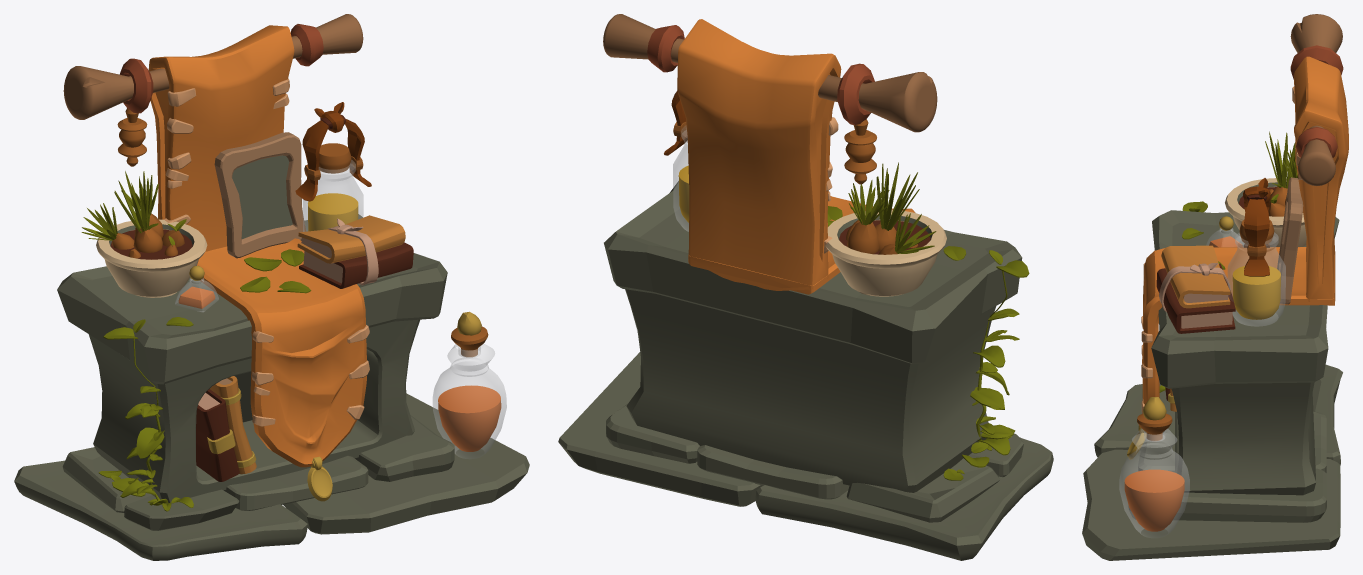
The model's file is xyz_homework_herbalists_table.glb.
3 renders of one model, left to right at view 1: azimuth 30°, elevation 25°; view 2: azimuth 150°, elevation 25°; view 3: azimuth 270°, elevation 25°, orthographic. The views are drawn at different scales.
Parts seen in each view (by area): view 1: Cube.009, Cube, Cube.008, Cube.001, Cube.006, Cube.007, Cube.010, Cylinder.002, Cylinder, Cylinder.001, Cube.003, Cube.002 (+21 smaller); view 2: Cube, Cube.008, Cube.001, Cube.007, Cube.006, Cylinder, Cylinder.001, Cube.004, Cube.002, Cube.003, Cube.009, Cylinder.018 (+8 smaller); view 3: Cube, Cube.001, Cube.006, Cube.008, Cylinder.002, Cube.003, Cube.009, Cylinder.004, Cube.007, Cylinder.023, Cube.012, Cylinder (+13 smaller).
Part boxes in pixels (x1=…): Cube.009: x1=197, y1=238, x2=366, y2=467; Cube: x1=89, y1=319, x2=419, y2=502; Cube.008: x1=148, y1=25, x2=294, y2=251; Cube.001: x1=57, y1=214, x2=447, y2=384; Cube.006: x1=283, y1=393, x2=529, y2=534; Cube.007: x1=14, y1=460, x2=307, y2=560; Cube.010: x1=214, y1=132, x2=305, y2=258; Cylinder.002: x1=433, y1=344, x2=506, y2=458; Cylinder: x1=63, y1=14, x2=363, y2=119; Cylinder.001: x1=96, y1=219, x2=207, y2=297; Cube.003: x1=355, y1=415, x2=454, y2=481; Cube.002: x1=224, y1=456, x2=368, y2=510; Cube: x1=625, y1=289, x2=996, y2=492; Cube.008: x1=677, y1=19, x2=841, y2=290; Cube.001: x1=604, y1=181, x2=1022, y2=364; Cube.007: x1=755, y1=437, x2=1053, y2=560; Cube.006: x1=558, y1=352, x2=762, y2=506; Cylinder: x1=603, y1=14, x2=937, y2=132; Cylinder.001: x1=825, y1=209, x2=946, y2=296; Cube.004: x1=846, y1=458, x2=999, y2=522; Cube.002: x1=697, y1=445, x2=849, y2=499; Cube.003: x1=606, y1=404, x2=699, y2=463; Cube.009: x1=688, y1=196, x2=915, y2=294; Cylinder.018: x1=844, y1=119, x2=876, y2=184; Cube: x1=1171, y1=382, x2=1316, y2=495; Cube.001: x1=1151, y1=210, x2=1339, y2=388; Cube.006: x1=1082, y1=449, x2=1340, y2=560; Cube.008: x1=1294, y1=56, x2=1348, y2=301; Cylinder.002: x1=1119, y1=428, x2=1189, y2=537; Cube.003: x1=1128, y1=468, x2=1326, y2=522; Cube.009: x1=1142, y1=247, x2=1334, y2=404; Cylinder.004: x1=1228, y1=232, x2=1285, y2=326; Cube.007: x1=1094, y1=364, x2=1342, y2=465; Cylinder.023: x1=1124, y1=469, x2=1184, y2=531; Cube.012: x1=1161, y1=245, x2=1230, y2=308; Cylinder: x1=1290, y1=14, x2=1342, y2=185.
Bounding box in the file's own units: 296 × 293 × 177.
